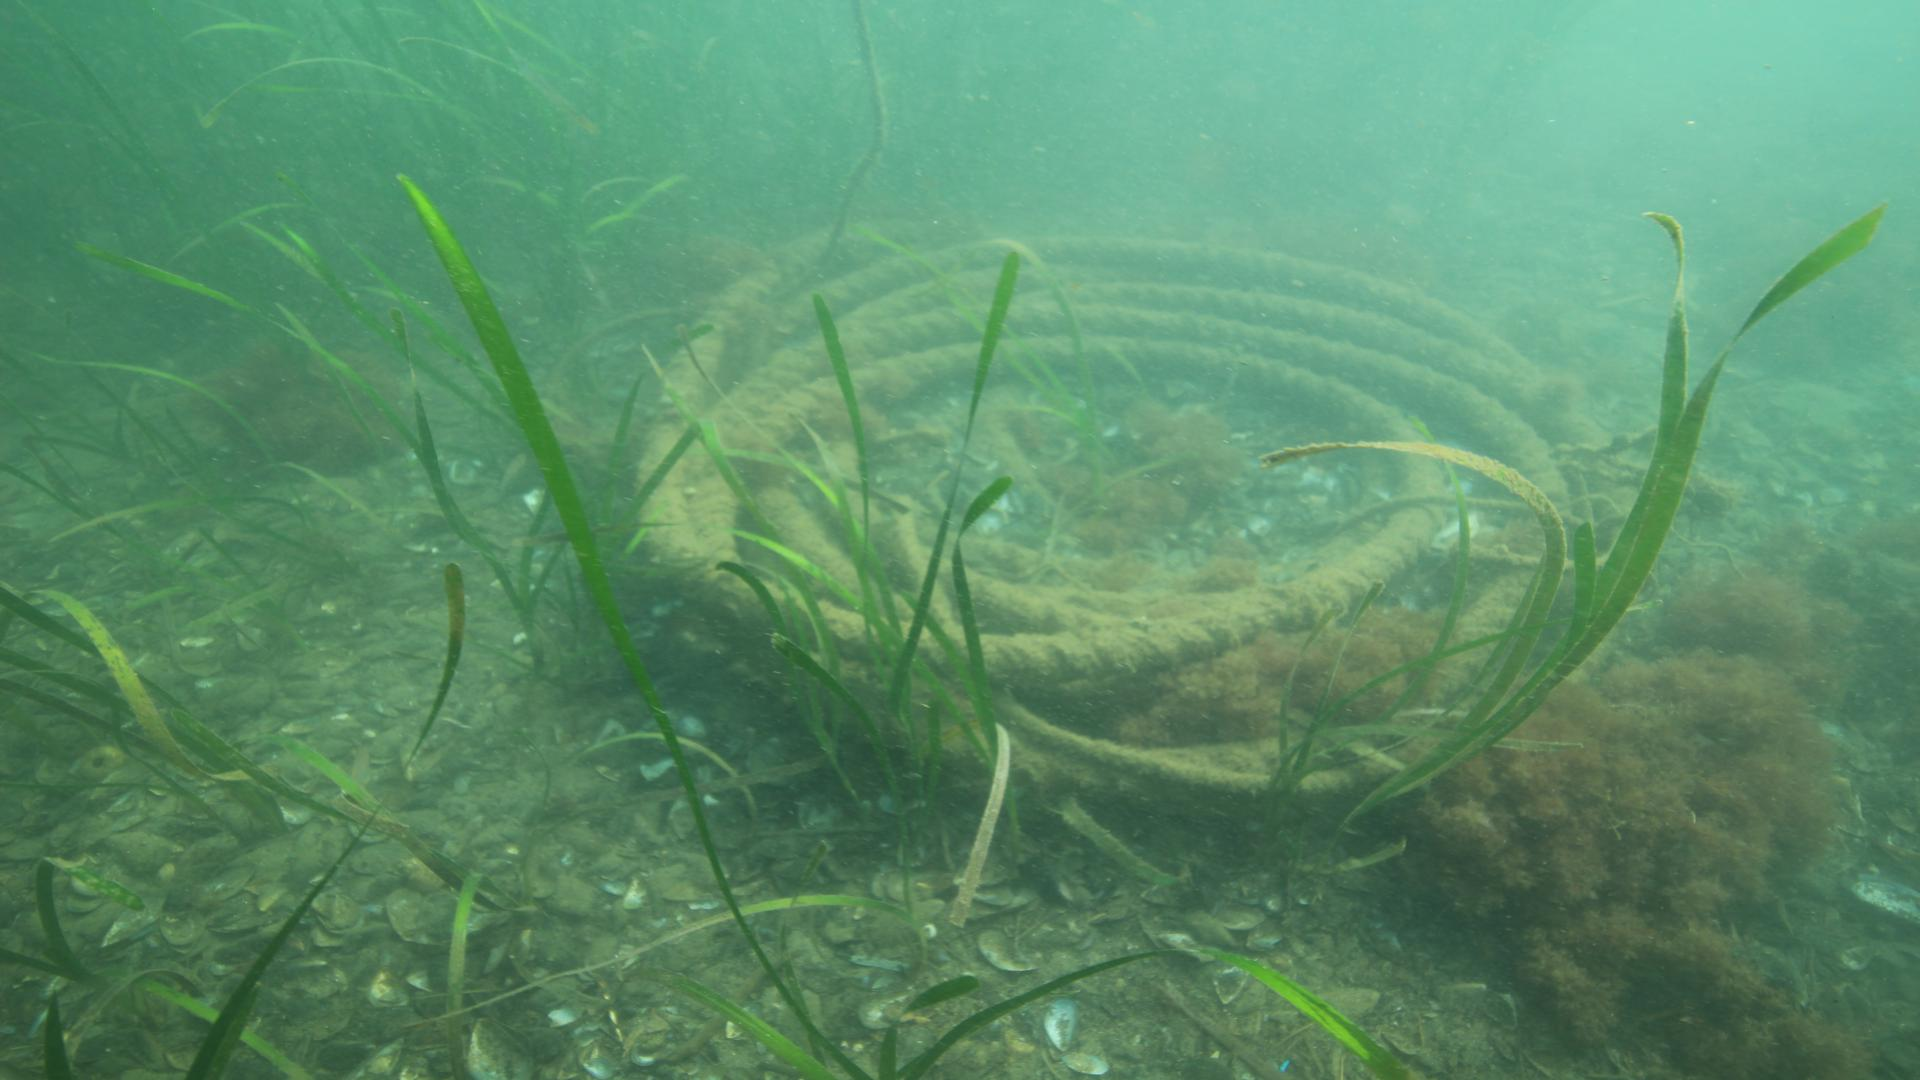bundle of ropes: (632, 215, 1642, 808)
